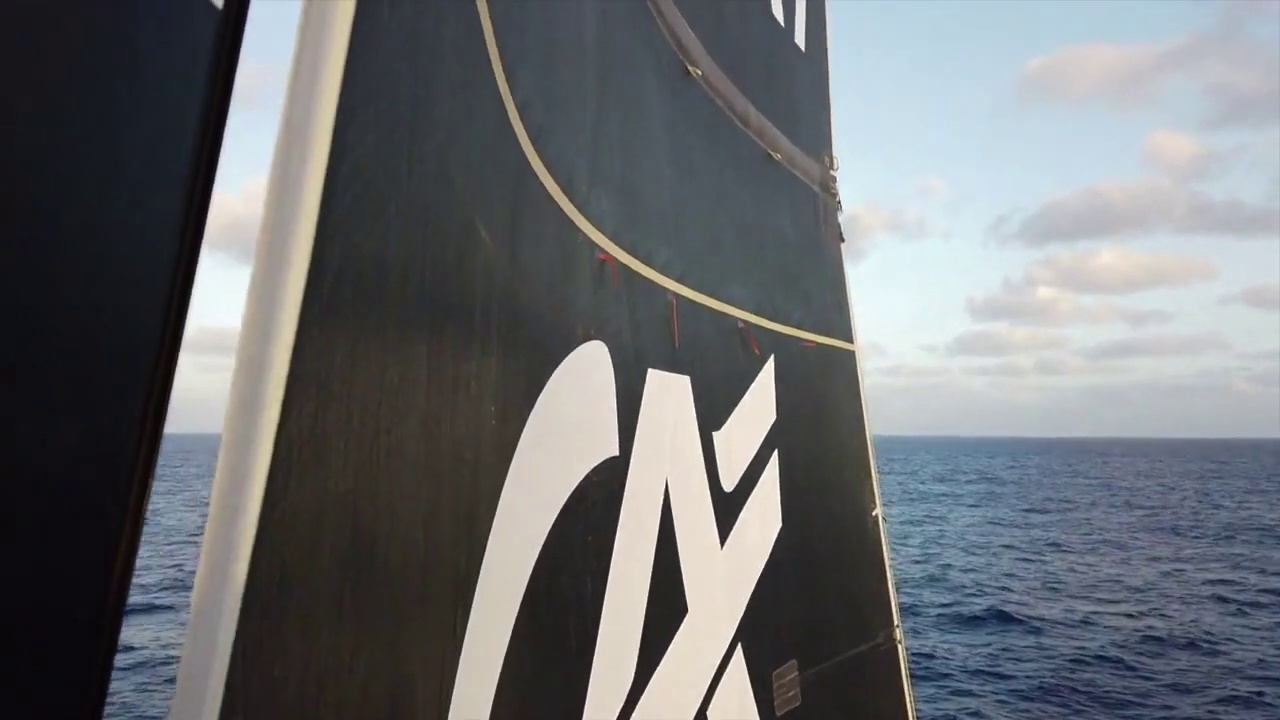pennon_attached: (796, 337, 821, 351)
pennon_detached: (654, 291, 690, 357), (591, 243, 627, 307), (732, 317, 767, 361)
